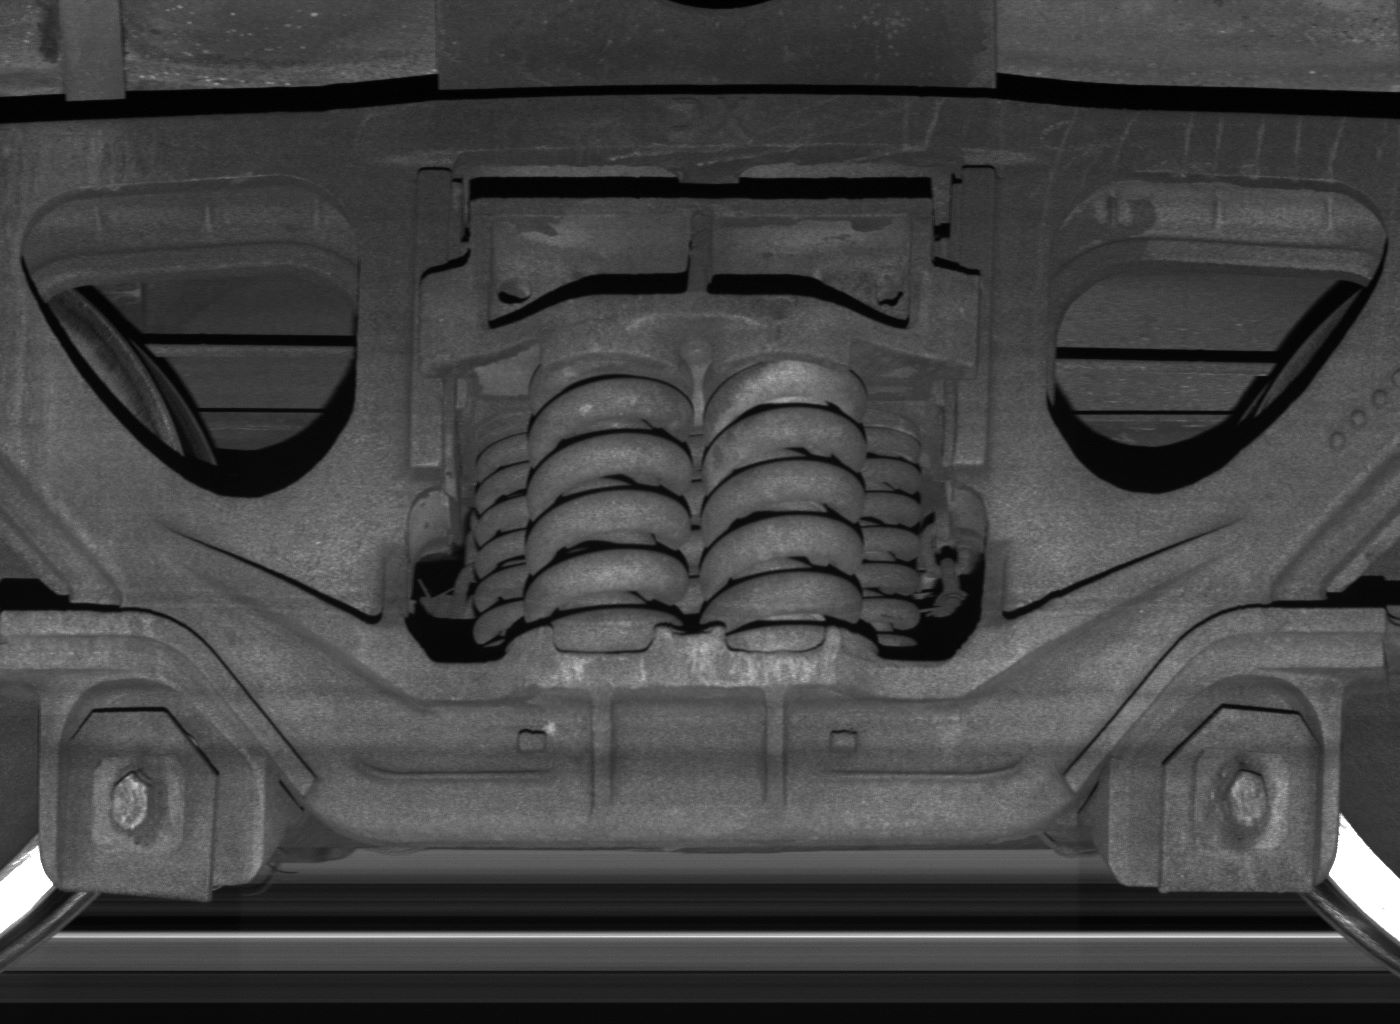normal: (1108, 674, 1340, 891), (39, 680, 263, 902)
